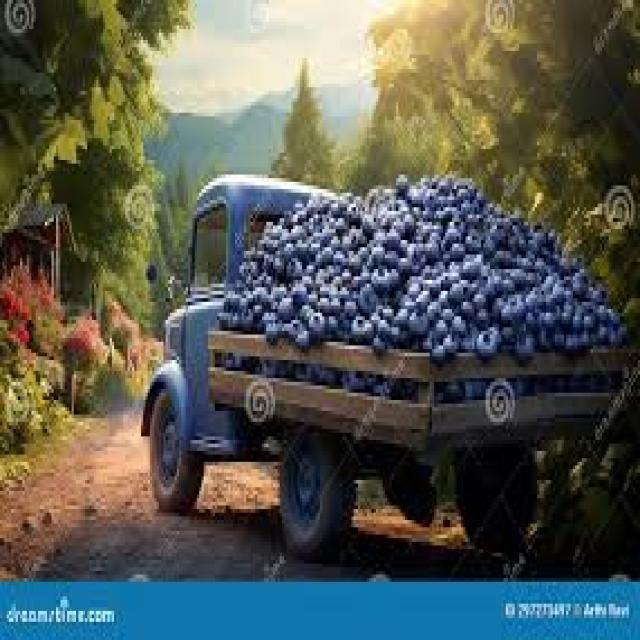uncovered: (147, 171, 605, 545)
